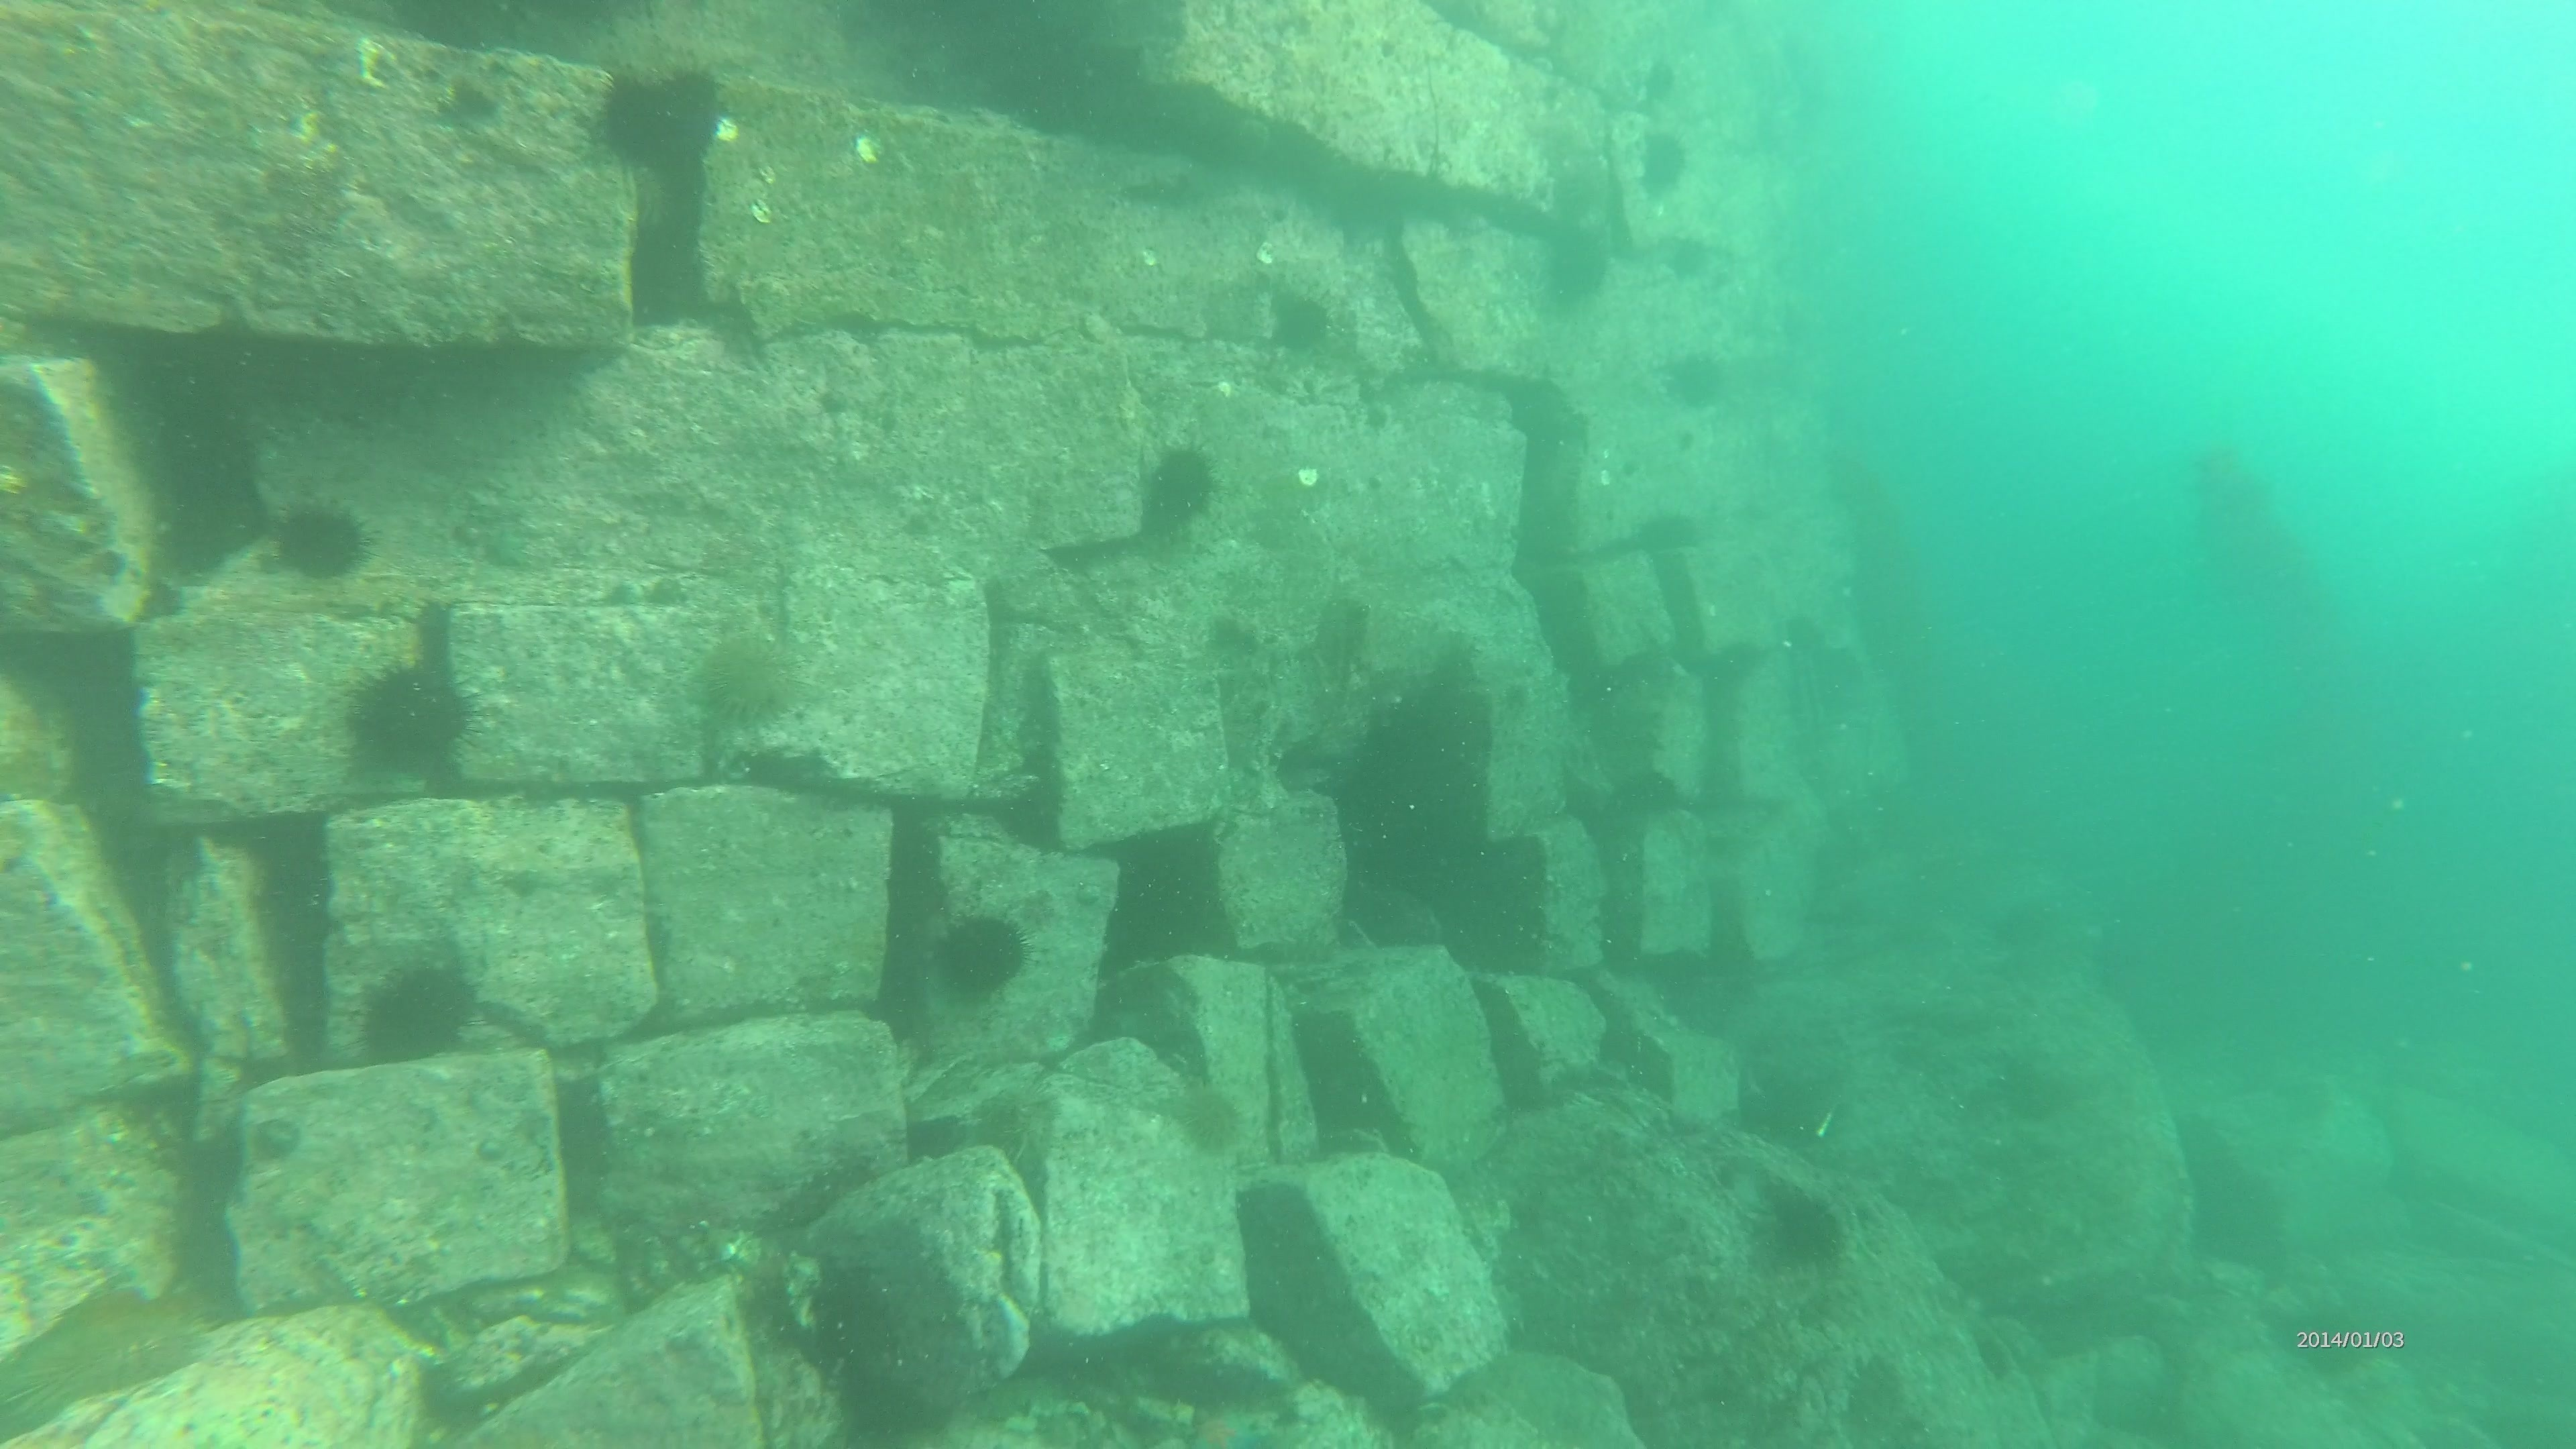echinus: (14, 1284, 214, 1428), (338, 656, 479, 782), (589, 58, 729, 177), (352, 954, 485, 1072), (685, 625, 807, 736), (927, 904, 1035, 1008), (260, 495, 377, 589), (1744, 1178, 1854, 1277), (1131, 435, 1224, 541), (1532, 218, 1617, 317), (1260, 278, 1343, 364), (1166, 1074, 1247, 1161), (1302, 587, 1380, 678), (1656, 341, 1736, 418), (1629, 122, 1697, 203), (1654, 226, 1720, 288), (1633, 763, 1683, 809), (1642, 55, 1674, 99)
